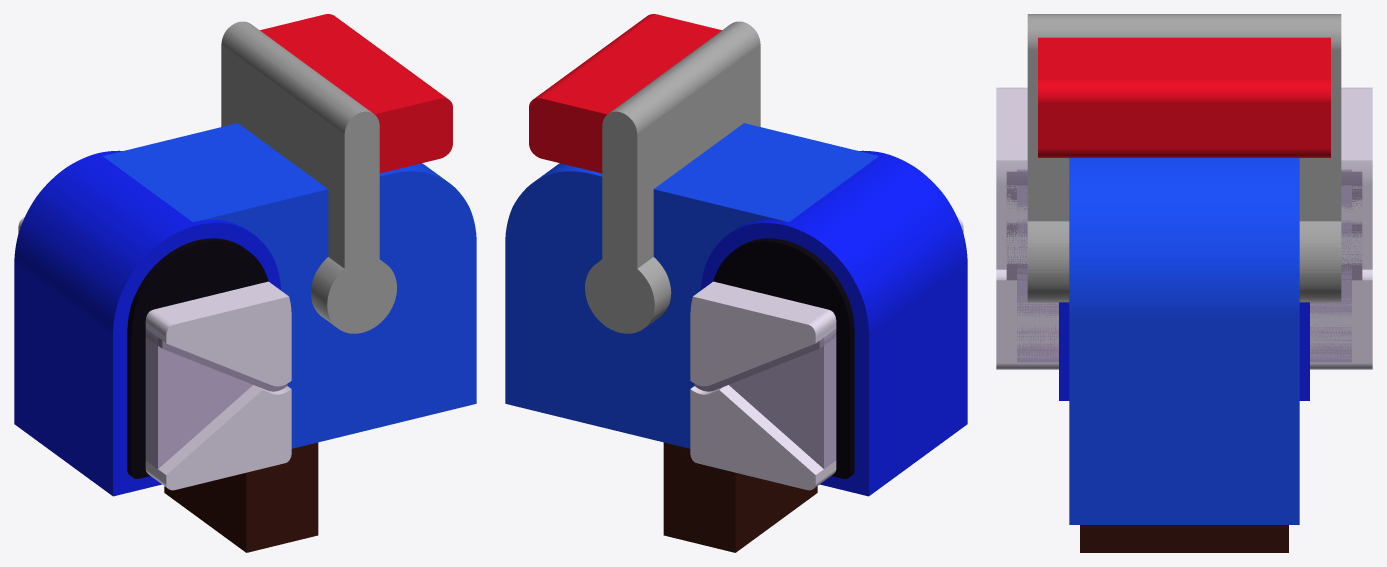
The picture shows the model from 3 angles, left to right: view 1: azimuth 30°, elevation 25°; view 2: azimuth 150°, elevation 25°; view 3: azimuth 270°, elevation 25°; orthographic projection. The views are drawn at different scales.
Visible parts, largest first — view 1: U+1F4EC_layer01_obj00, U+1F4EC_layer02_obj00, U+1F4EC_layer05_obj00, U+1F4EC_layer08_obj00, U+1F4EC_layer04_obj00, U+1F4EC_layer00_obj00, U+1F4EC_layer03_obj00, U+1F4EC_layer06_obj00, U+1F4EC_layer07_obj00; view 2: U+1F4EC_layer01_obj00, U+1F4EC_layer02_obj00, U+1F4EC_layer05_obj00, U+1F4EC_layer08_obj00, U+1F4EC_layer04_obj00, U+1F4EC_layer00_obj00, U+1F4EC_layer03_obj00, U+1F4EC_layer06_obj00, U+1F4EC_layer07_obj00; view 3: U+1F4EC_layer01_obj00, U+1F4EC_layer04_obj00, U+1F4EC_layer05_obj00, U+1F4EC_layer08_obj00, U+1F4EC_layer06_obj00, U+1F4EC_layer00_obj00, U+1F4EC_layer07_obj00, U+1F4EC_layer02_obj00.
Part boxes in pixels (x1,y1,x2,y2): U+1F4EC_layer01_obj00: (103,123,476,448); U+1F4EC_layer02_obj00: (14,150,280,496); U+1F4EC_layer05_obj00: (221,21,396,333); U+1F4EC_layer08_obj00: (18,217,291,490); U+1F4EC_layer04_obj00: (260,14,452,173); U+1F4EC_layer00_obj00: (164,442,318,552); U+1F4EC_layer03_obj00: (127,238,268,478); U+1F4EC_layer06_obj00: (145,329,252,468); U+1F4EC_layer07_obj00: (145,333,287,391); U+1F4EC_layer01_obj00: (505,123,878,448); U+1F4EC_layer02_obj00: (701,150,967,496); U+1F4EC_layer05_obj00: (585,21,760,333); U+1F4EC_layer08_obj00: (690,217,963,490); U+1F4EC_layer04_obj00: (529,14,721,173); U+1F4EC_layer00_obj00: (663,442,817,552); U+1F4EC_layer03_obj00: (713,238,854,478); U+1F4EC_layer06_obj00: (729,329,836,469); U+1F4EC_layer07_obj00: (694,331,836,391); U+1F4EC_layer01_obj00: (1069,158,1299,524); U+1F4EC_layer04_obj00: (1038,37,1330,157); U+1F4EC_layer05_obj00: (1027,14,1341,302); U+1F4EC_layer08_obj00: (996,87,1372,369); U+1F4EC_layer06_obj00: (1017,169,1351,362); U+1F4EC_layer00_obj00: (1080,525,1288,552); U+1F4EC_layer07_obj00: (1006,171,1362,280); U+1F4EC_layer02_obj00: (1059,302,1309,400).
Size of the model in its own units: 0.517 by 0.5813 by 0.36.
